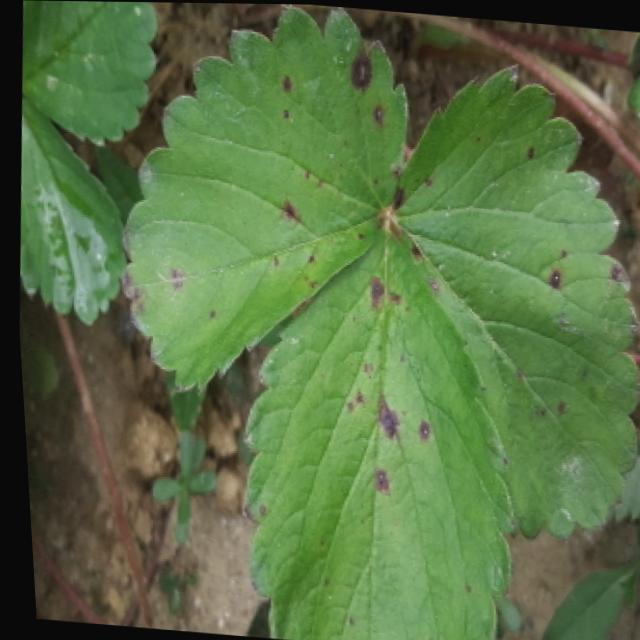Leaf Spot: (392, 60, 639, 538), (232, 217, 509, 640), (113, 3, 405, 397)
